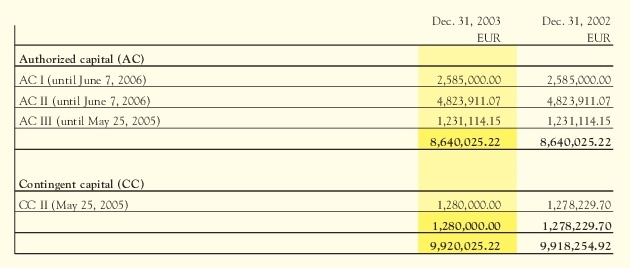table: (0, 0, 630, 268)
